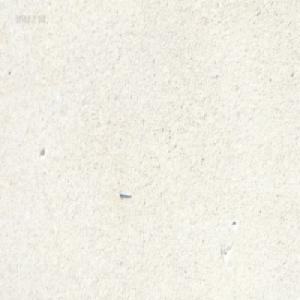Nail: (116, 189, 131, 198)
